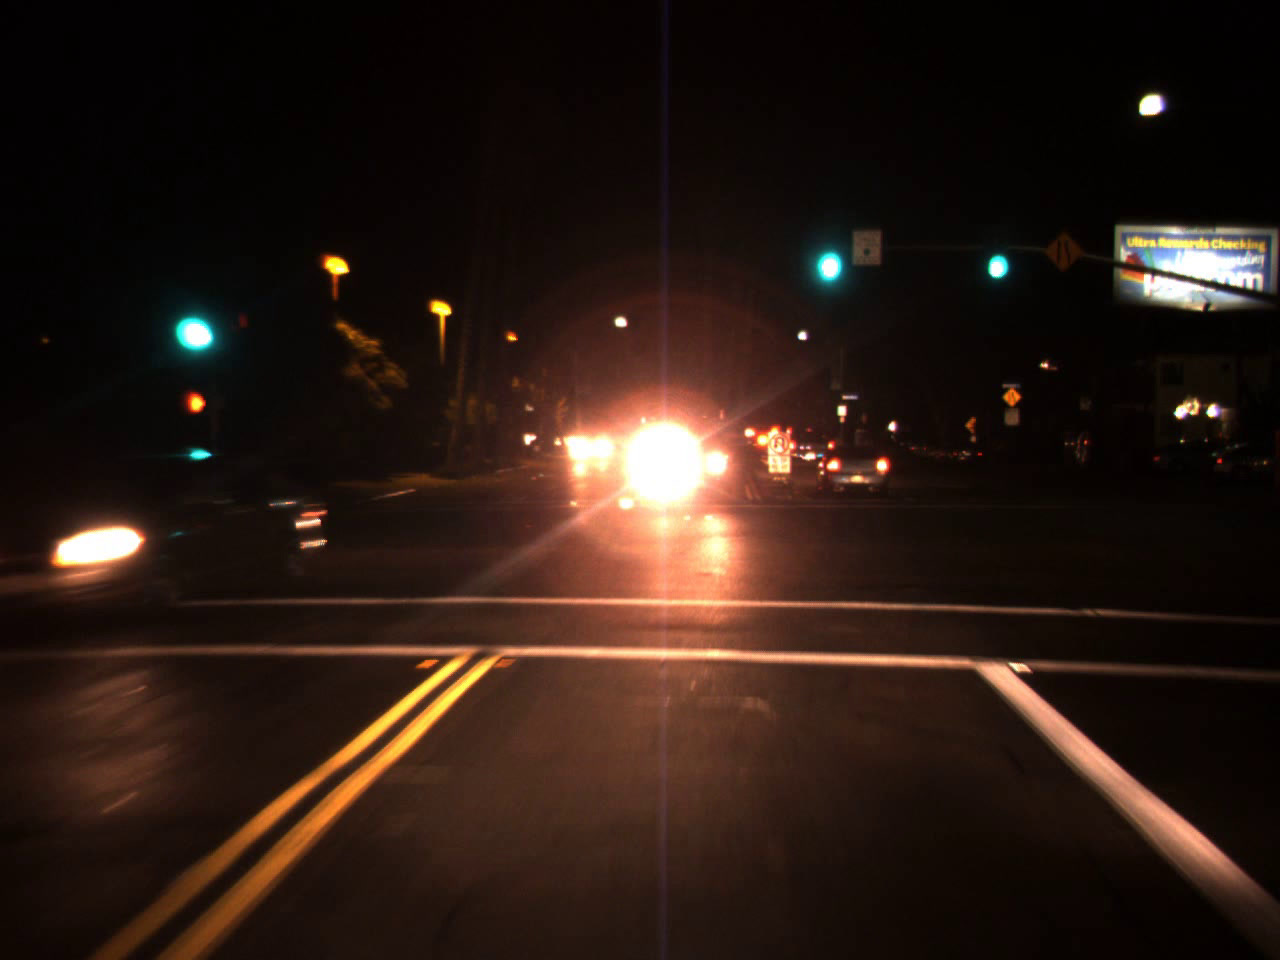go: (169, 280, 219, 361), (806, 212, 847, 293), (981, 223, 1013, 289)
